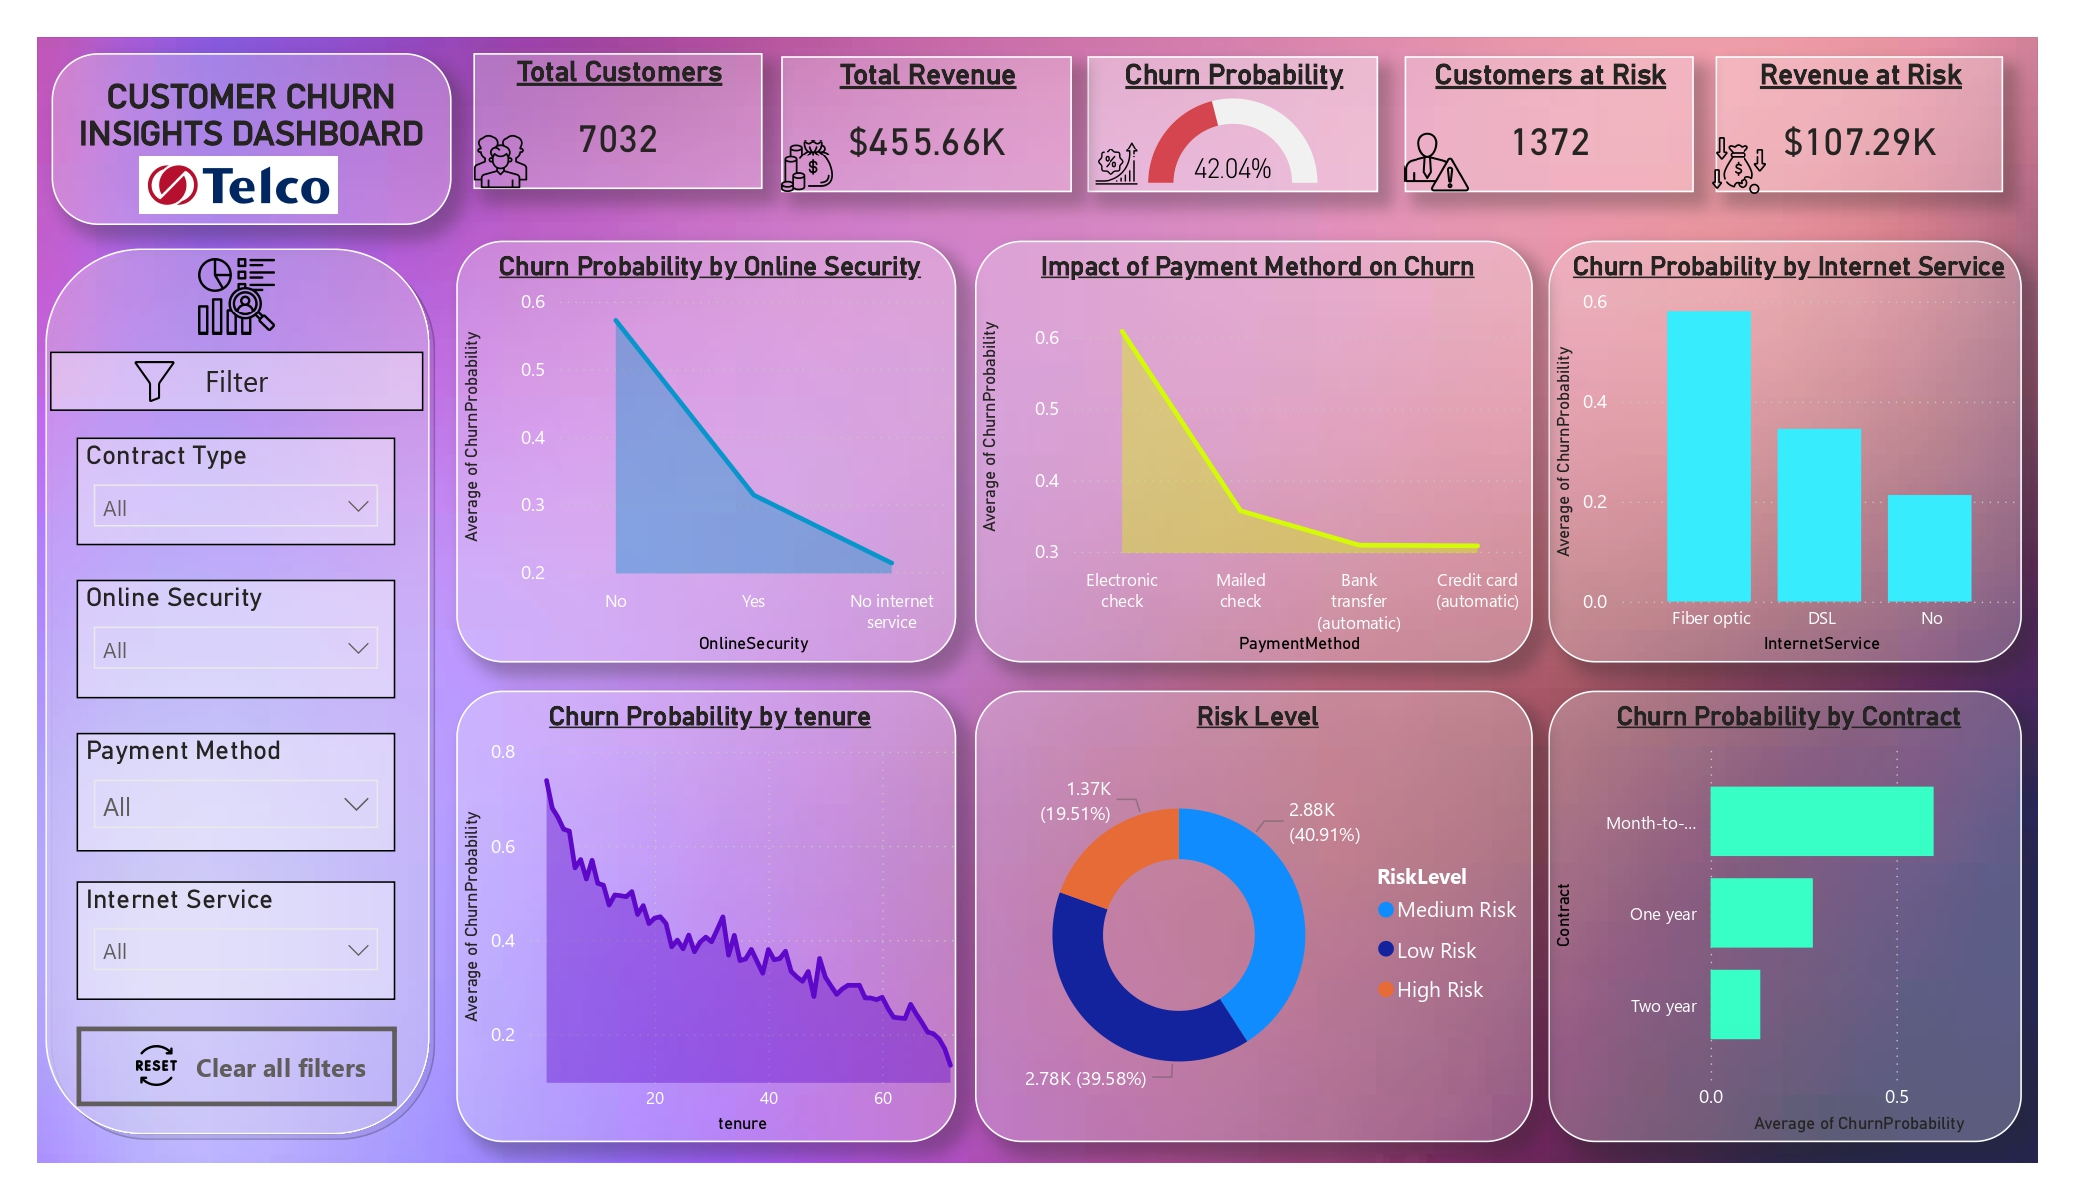

What the dashboard file says about the page in this screenshot:
{"tool":"powerbi","page":{"name":"Page 1","canvas":[1280,720],"ordinal":0},"visuals":[{"type":"gauge","title":"Churn Probability","fields":{"Y":["Avg(customers.ChurnProbability)"]},"box":[672.3,12,185.7,86.9],"z":0},{"type":"shape","box":[0,130.3,256.1,576.5],"z":1000},{"type":"card","title":"Total Customers","fields":{"Values":["CountNonNull(customers.customerID)"]},"box":[278.5,10.5,185.7,86.9],"z":2000},{"type":"card","title":"Revenue at Risk","fields":{"Values":["Sum(customers.MonthlyCharges)"]},"box":[1073.7,12,184.2,86.9],"z":3000},{"type":"clusteredBarChart","title":"Churn Probability by Contract","fields":{"Category":["customers.Contract"],"Y":["Avg(customers.ChurnProbability)"]},"box":[967.3,417.8,302.5,289],"z":4000},{"type":"stackedAreaChart","title":"Churn Probability by tenure","fields":{"Category":["customers.tenure"],"Y":["Avg(customers.ChurnProbability)"]},"box":[268,417.8,320.5,289],"z":5000},{"type":"donutChart","title":"Risk Level","fields":{"Category":["customers.RiskLevel"],"Y":["CountNonNull(customers.customerID)"]},"box":[600.5,417.8,356.4,289],"z":6000},{"type":"slicer","title":"Contract Type","fields":{"Values":["customers.Contract"]},"box":[25.3,255.8,203.9,68.8],"z":7000},{"type":"slicer","title":"Online Security","fields":{"Values":["customers.OnlineSecurity"]},"box":[25.3,347.5,203.9,76],"z":8000},{"type":"slicer","title":"Payment Method","fields":{"Values":["customers.PaymentMethod"]},"box":[25.3,445.2,203.9,76],"z":9000},{"type":"slicer","title":"Internet Service","fields":{"Values":["customers.InternetService"]},"box":[25.3,540.5,203.9,76],"z":10000},{"type":"textbox","box":[8.4,201.5,238.9,37.4],"z":11000},{"type":"image","box":[49.2,207.2,52.2,25.3],"z":12000},{"type":"actionButton","box":[25.3,633.4,204.2,50.7],"z":13000},{"type":"textbox","box":[9,10.5,256.1,109.3],"z":14000},{"type":"image","box":[65.1,71.2,126.7,47.1],"z":15000},{"type":"image","box":[62.6,640.9,26.8,34.3],"z":16000},{"type":"card","title":"Customers at Risk","fields":{"Values":["CountNonNull(customers.ChurnPrediction)"]},"box":[874.5,12,185.7,86.9],"z":17000},{"type":"columnChart","title":"Churn Probability by Internet Service","fields":{"Y":["Avg(customers.ChurnProbability)"],"Category":["customers.InternetService"]},"box":[967.3,130.3,302.5,269.5],"z":18000},{"type":"stackedAreaChart","title":"Churn Probability by Online Security","fields":{"Category":["customers.OnlineSecurity"],"Y":["Avg(customers.ChurnProbability)"]},"box":[268,130.3,320.5,269.5],"z":19000},{"type":"stackedAreaChart","title":"Impact of Payment Methord on Churn","fields":{"Category":["customers.PaymentMethod"],"Y":["Avg(customers.ChurnProbability)"]},"box":[600.5,130.3,356.4,269.5],"z":20000},{"type":"card","title":"Total Revenue","fields":{"Values":["Sum(customers.MonthlyCharges)"]},"box":[476.2,12,185.7,86.9],"z":21000},{"type":"image","box":[95.8,140.8,62.9,49.4],"z":22000},{"type":"image","box":[1070.7,64.4,35.9,35.9],"z":23000},{"type":"image","box":[278.5,61.4,35.9,35.9],"z":24000},{"type":"image","box":[476.2,64.4,32.9,35.9],"z":25000},{"type":"image","box":[874.5,58.4,41.9,41.9],"z":26000},{"type":"image","box":[672.5,66,35.5,29.2],"z":27000}]}

Visuals, with their boxes in screenshot pixels (x1, y1, x2, y2):
"Churn Probability" gauge: {"left": 1075, "top": 46, "right": 1372, "bottom": 185}
shape: {"left": 0, "top": 235, "right": 409, "bottom": 1157}
"Total Customers" card: {"left": 445, "top": 44, "right": 742, "bottom": 183}
"Revenue at Risk" card: {"left": 1717, "top": 46, "right": 2011, "bottom": 185}
"Churn Probability by Contract" clusteredBarChart: {"left": 1546, "top": 695, "right": 2030, "bottom": 1157}
"Churn Probability by tenure" stackedAreaChart: {"left": 428, "top": 695, "right": 941, "bottom": 1157}
"Risk Level" donutChart: {"left": 960, "top": 695, "right": 1530, "bottom": 1157}
"Contract Type" slicer: {"left": 40, "top": 436, "right": 366, "bottom": 546}
"Online Security" slicer: {"left": 40, "top": 583, "right": 366, "bottom": 704}
"Payment Method" slicer: {"left": 40, "top": 739, "right": 366, "bottom": 860}
"Internet Service" slicer: {"left": 40, "top": 891, "right": 366, "bottom": 1013}
textbox: {"left": 13, "top": 349, "right": 395, "bottom": 409}
image: {"left": 79, "top": 358, "right": 162, "bottom": 399}
actionButton: {"left": 40, "top": 1040, "right": 367, "bottom": 1121}
textbox: {"left": 14, "top": 44, "right": 424, "bottom": 219}
image: {"left": 104, "top": 141, "right": 307, "bottom": 216}
image: {"left": 100, "top": 1052, "right": 143, "bottom": 1106}
"Customers at Risk" card: {"left": 1398, "top": 46, "right": 1695, "bottom": 185}
"Churn Probability by Internet Service" columnChart: {"left": 1546, "top": 235, "right": 2030, "bottom": 666}
"Churn Probability by Online Security" stackedAreaChart: {"left": 428, "top": 235, "right": 941, "bottom": 666}
"Impact of Payment Methord on Churn" stackedAreaChart: {"left": 960, "top": 235, "right": 1530, "bottom": 666}
"Total Revenue" card: {"left": 761, "top": 46, "right": 1058, "bottom": 185}
image: {"left": 153, "top": 252, "right": 254, "bottom": 331}
image: {"left": 1712, "top": 130, "right": 1769, "bottom": 187}
image: {"left": 445, "top": 125, "right": 503, "bottom": 183}
image: {"left": 761, "top": 130, "right": 814, "bottom": 187}
image: {"left": 1398, "top": 120, "right": 1465, "bottom": 187}
image: {"left": 1075, "top": 133, "right": 1132, "bottom": 179}
